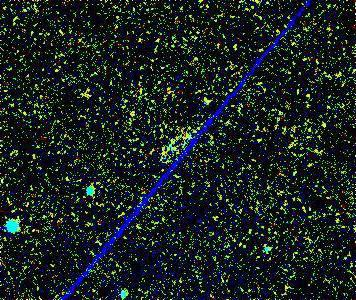star: (73, 77, 103, 107)
